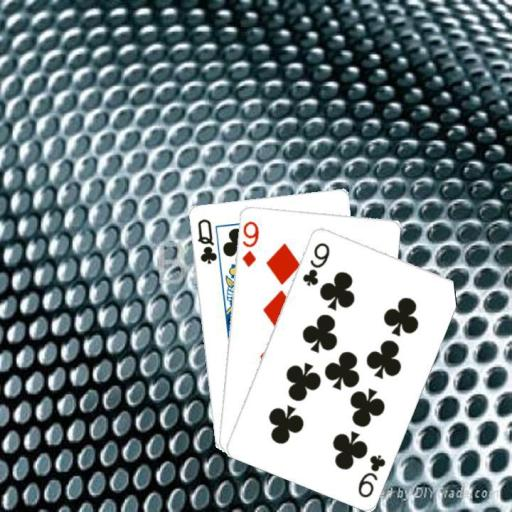9C: (354, 451, 387, 499), (299, 239, 331, 287)
9D: (239, 218, 260, 268)
QC: (194, 216, 218, 266)
